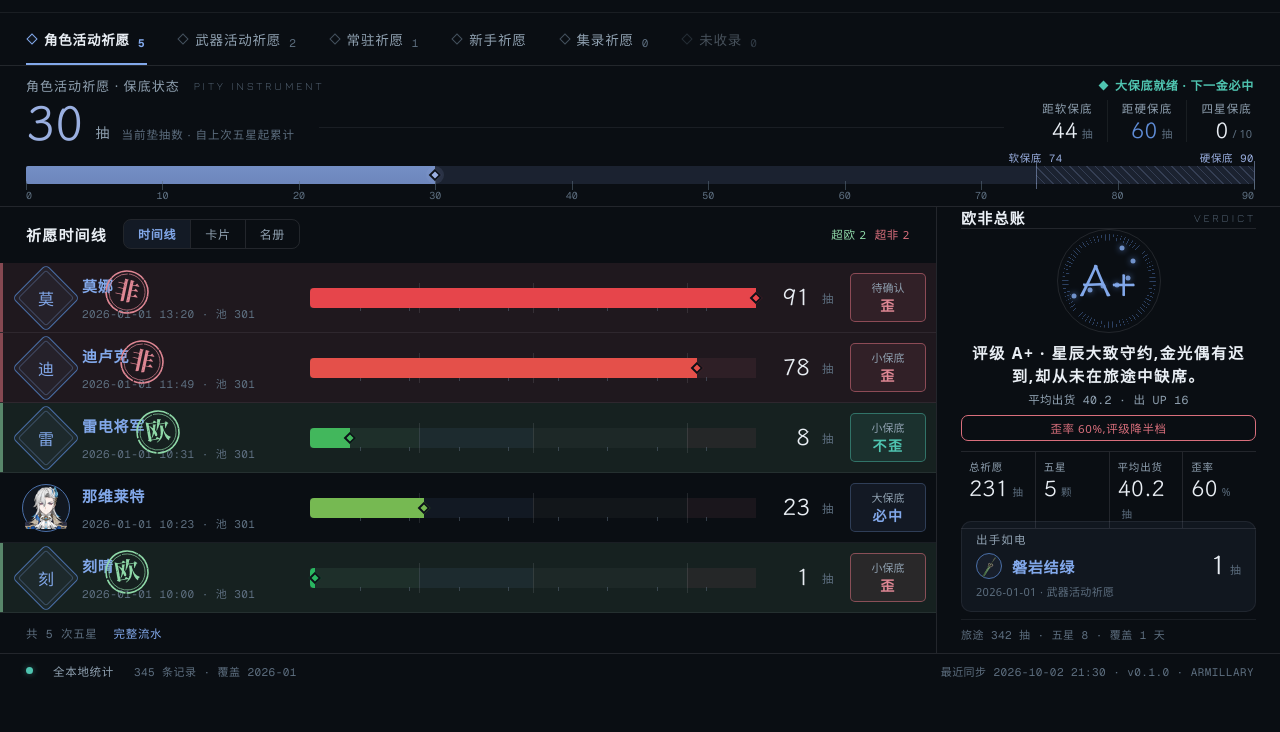
Test: BoardView · 名册切换与流水抽屉 › 名册视图:按物品分组卡片 + 汇总芯片 + 尾注,可切回时间线
What coordinates should you click on to do the following:
click the button "名册"
I would click on:
 (272, 234)
Its box is [245,220,299,248].
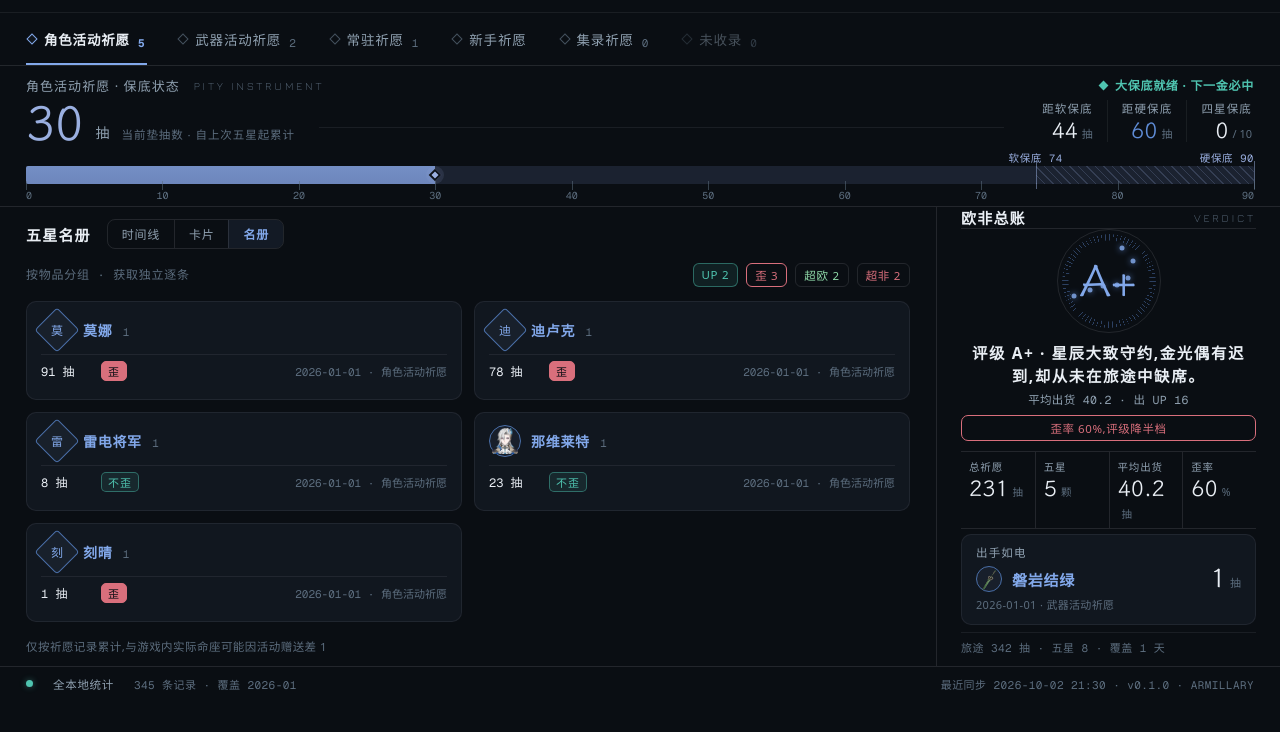
Result: the number of elements with class "roster-card" is 5 at [26,301,462,400]; [474,301,910,400]; [26,412,462,511]; [474,412,910,511]; [26,523,462,622]
Result: the element with class "rh-chips" shows "UP 2" at [702,267,729,282]
Result: the element with class "rh-chips" shows "歪 3" at [755,268,778,283]
What coordinates should you click on to do the following:
click the button "时间线"
I would click on:
 (141, 234)
Its box is [108,220,174,248].
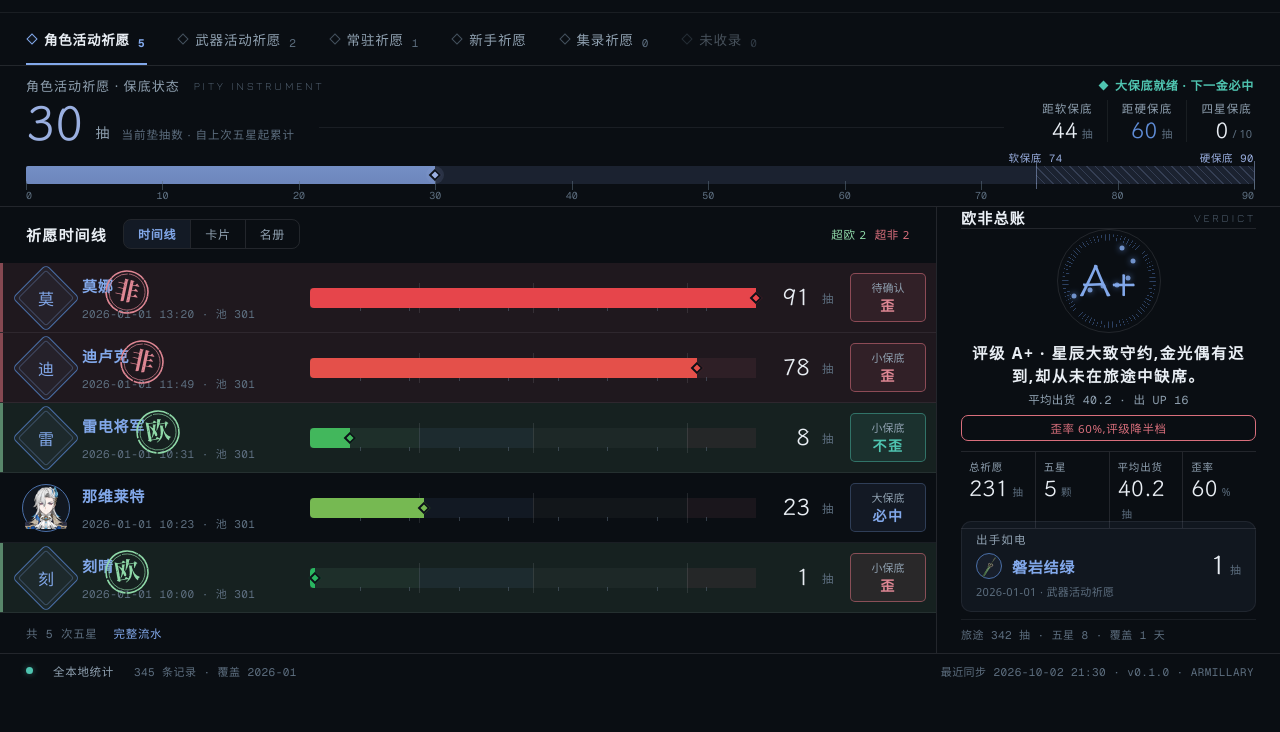
Result: the element with class "timeline" is shown at [0,249,936,653]
